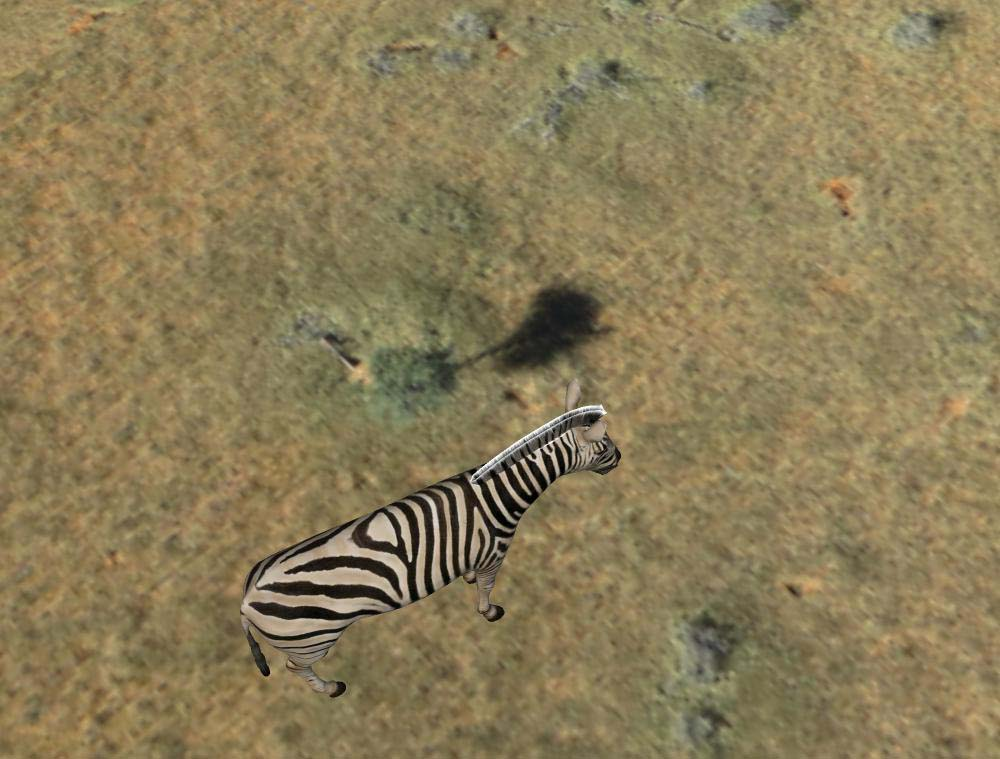zebra: (239, 377, 625, 697)
